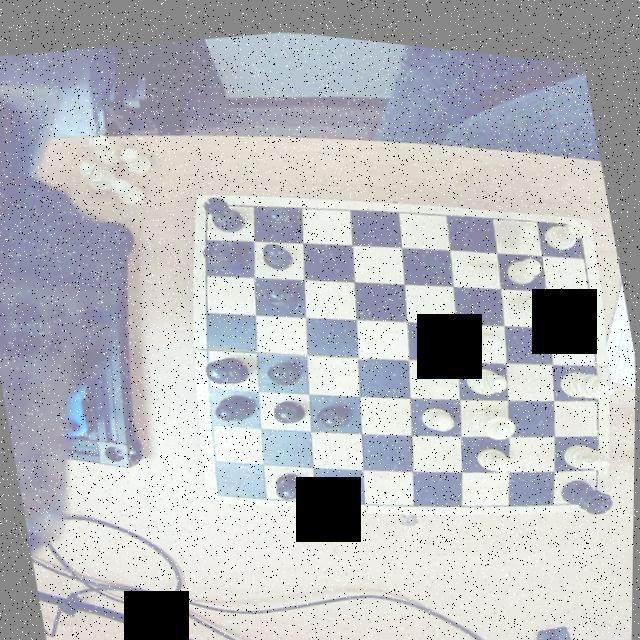chess-table-corners: (207, 470, 237, 502), (192, 188, 222, 218), (560, 200, 592, 226), (583, 472, 610, 498)
